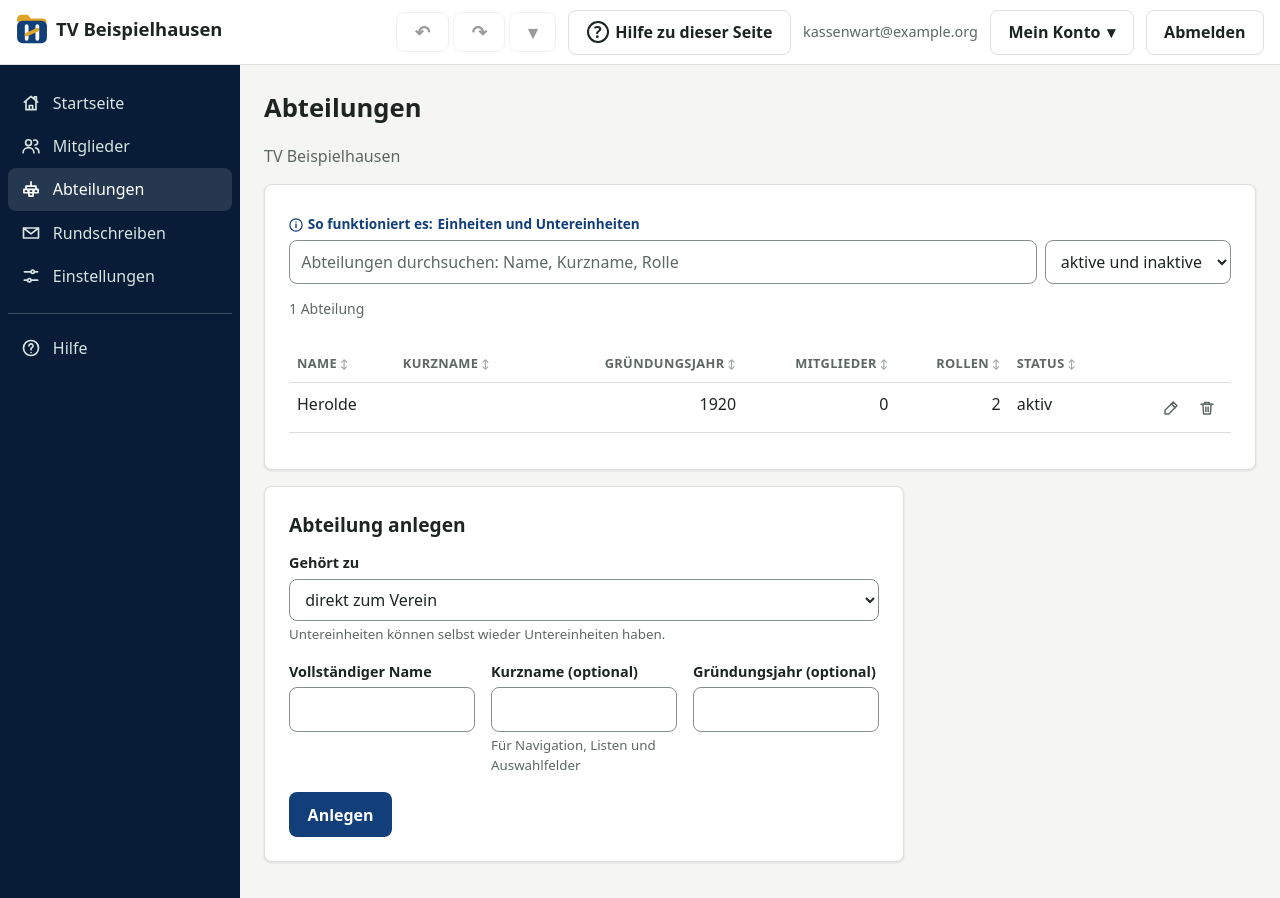
Test: Abteilungsrollen entfernen › entfernt eine freie Rolle nach Bestätigung
What coordinates should you click on to do the following:
click the button named "Herolde bearbeiten"
I would click on:
 (1171, 408)
Its box is [1155,392,1187,424].
(page scrolled)
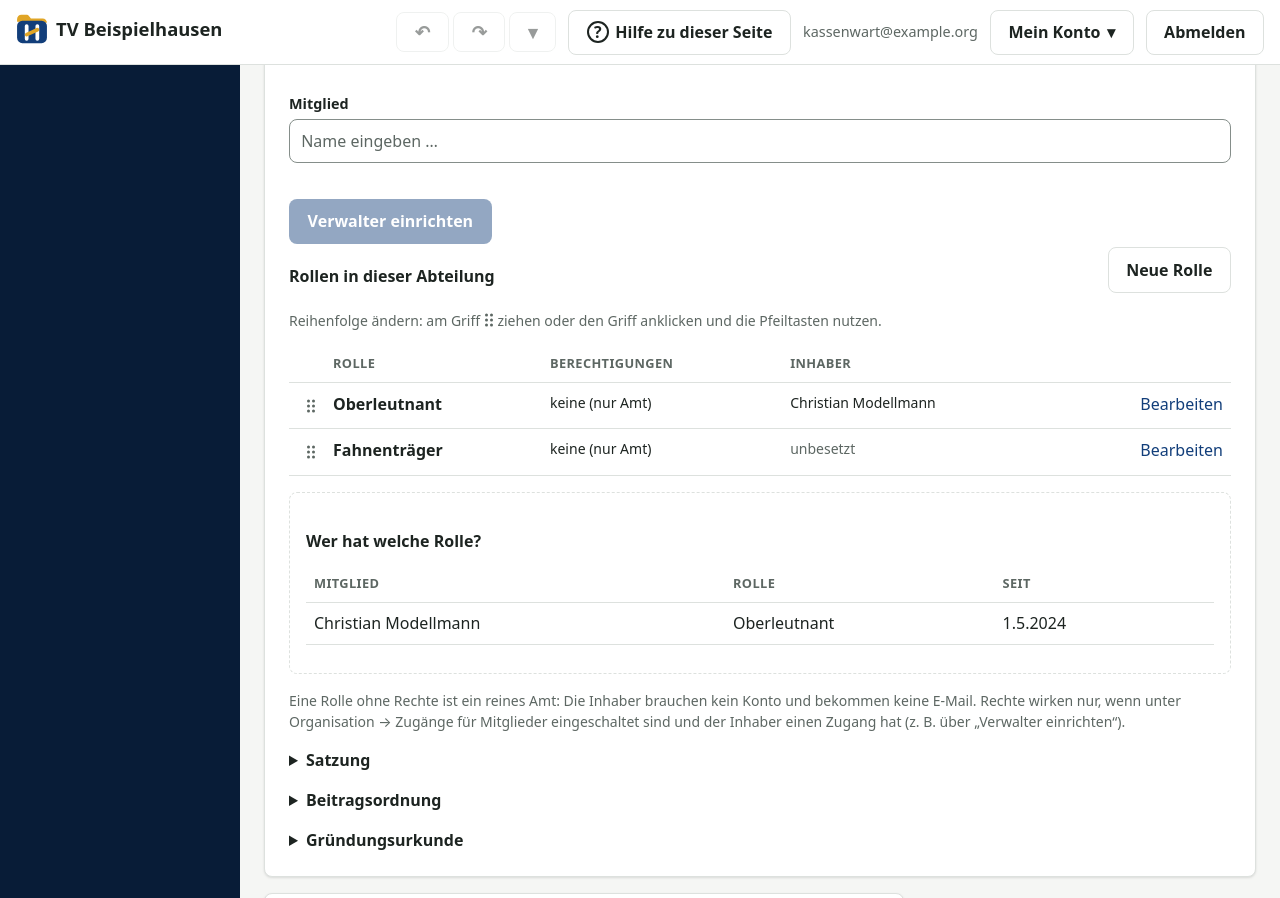
What coordinates should you click on to do the following:
click the button "Bearbeiten" in the row of "Fahnenträger"
I would click on:
 (1182, 450)
Its box is [1140,438,1223,462].
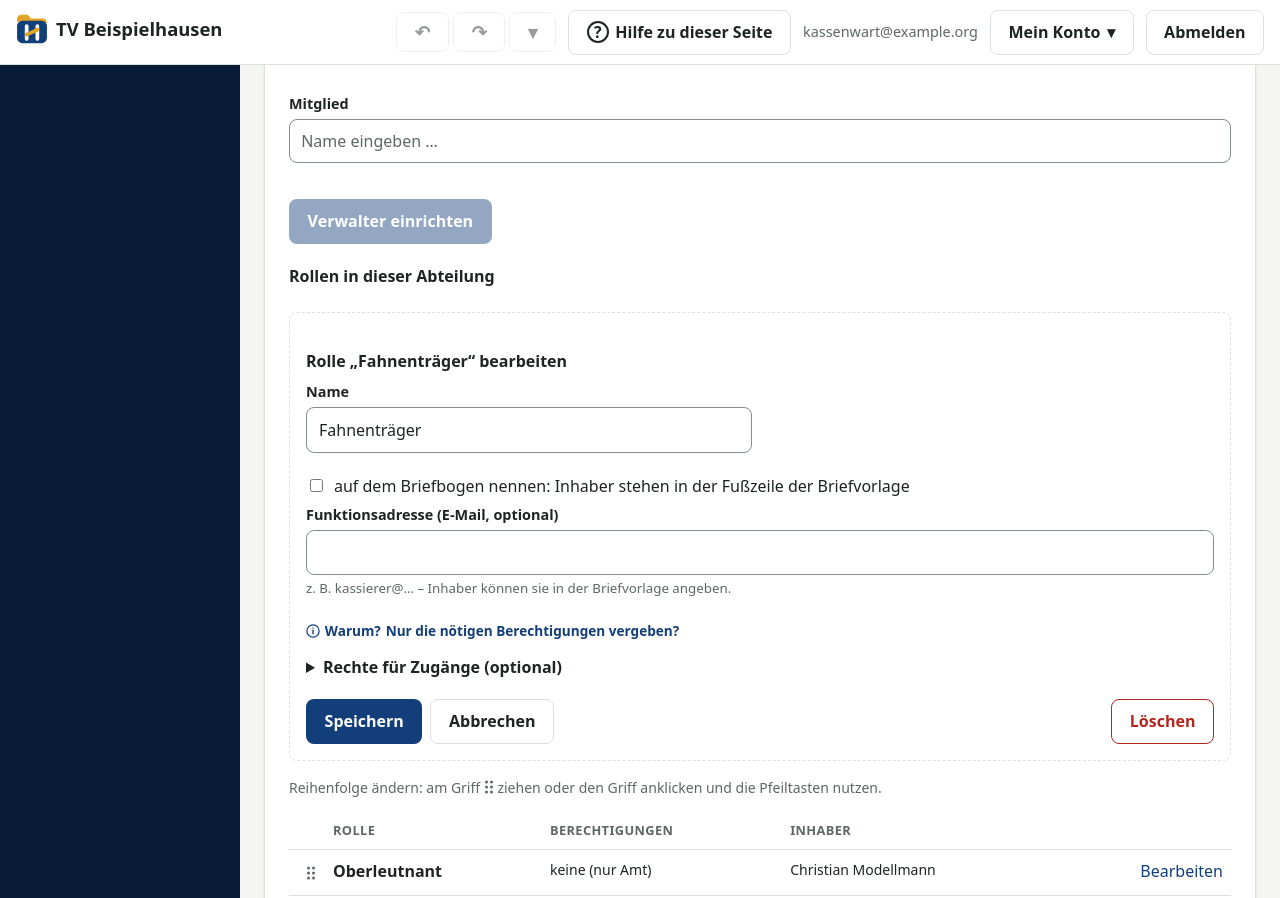
What coordinates should you click on to do the following:
click the button "Löschen"
I would click on:
 (1163, 722)
Its box is [1111,699,1214,744].
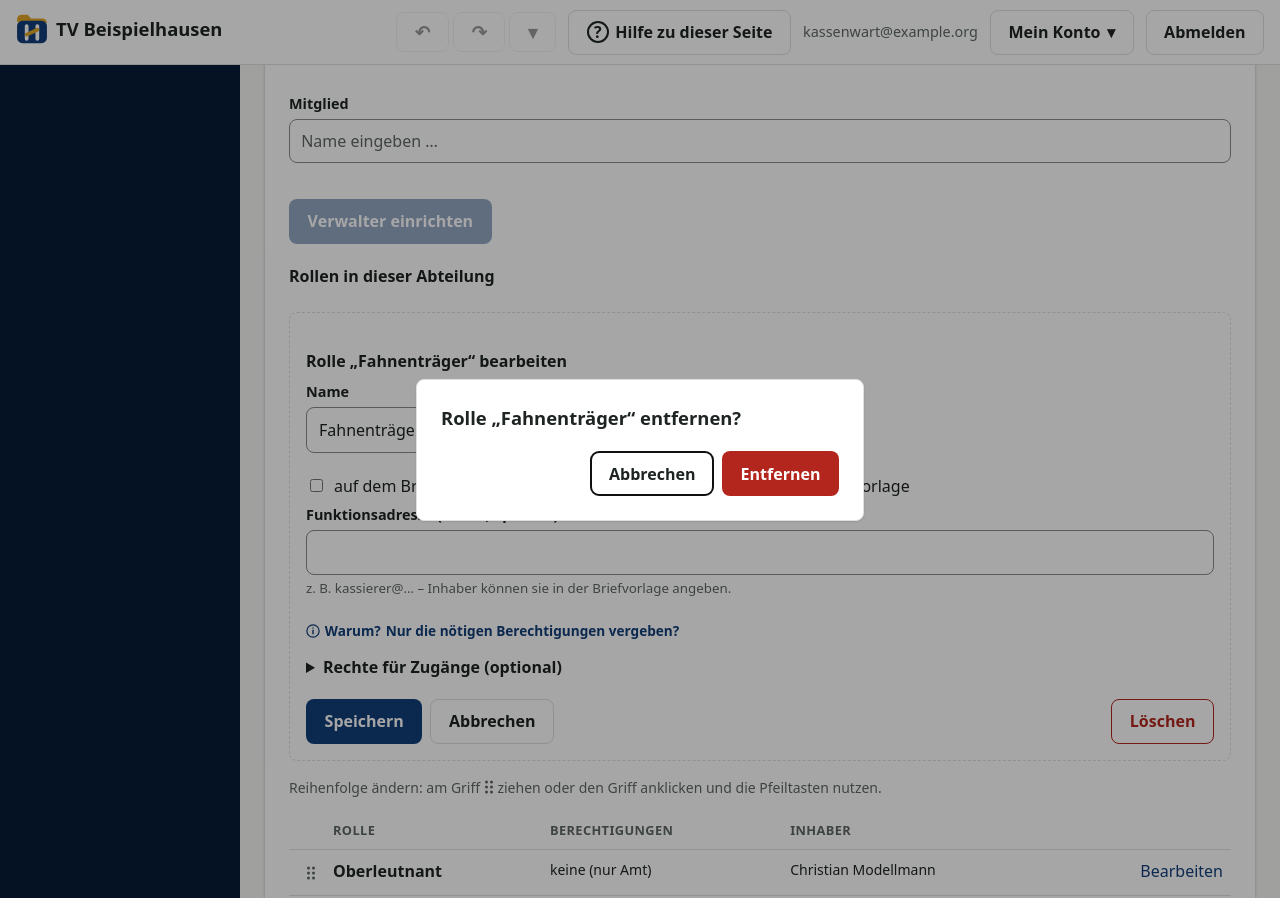
What coordinates should you click on to do the following:
click the button "Entfernen"
I would click on:
 (780, 474)
Its box is [722,451,839,496].
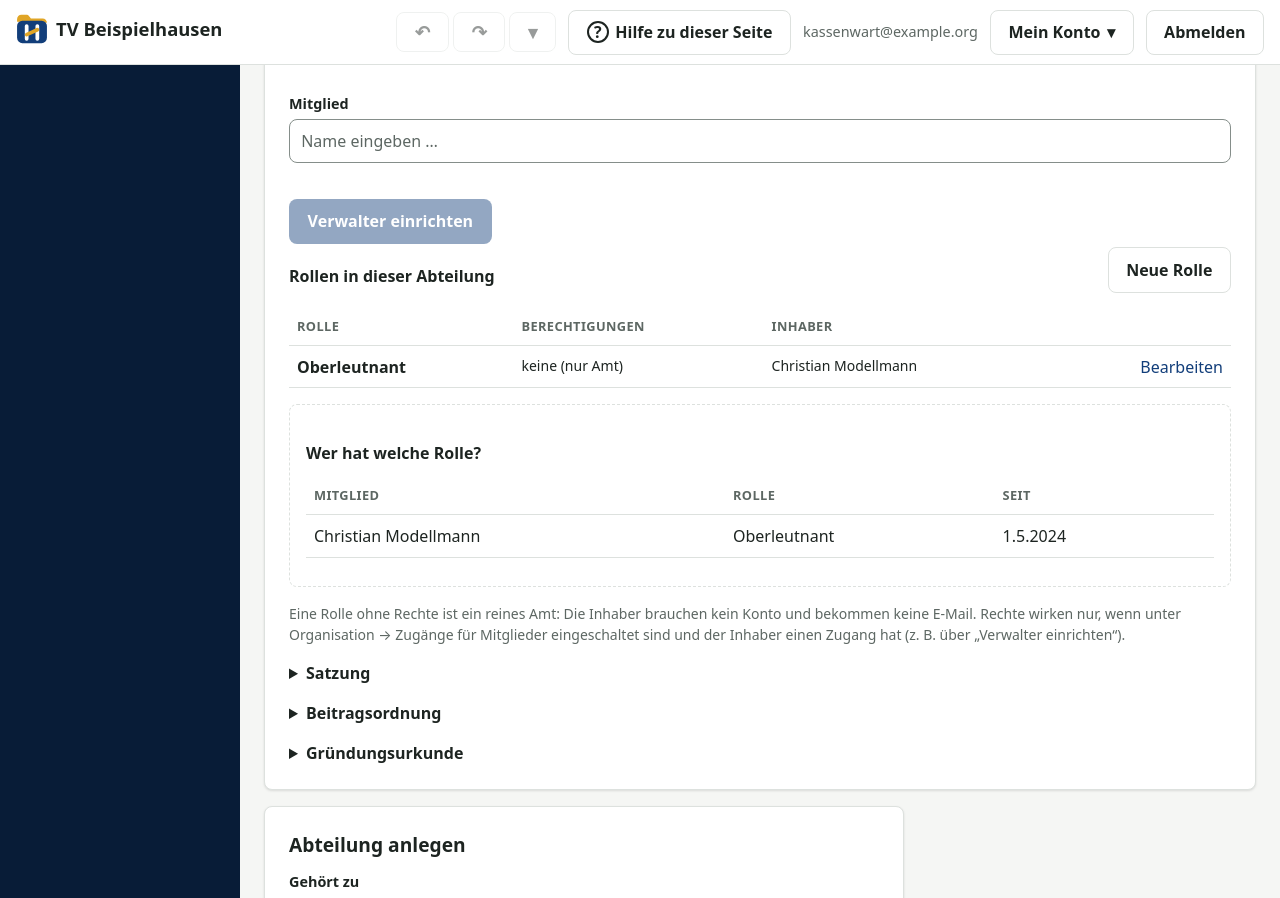
Result: the heading "Fahnenträger" is gone
